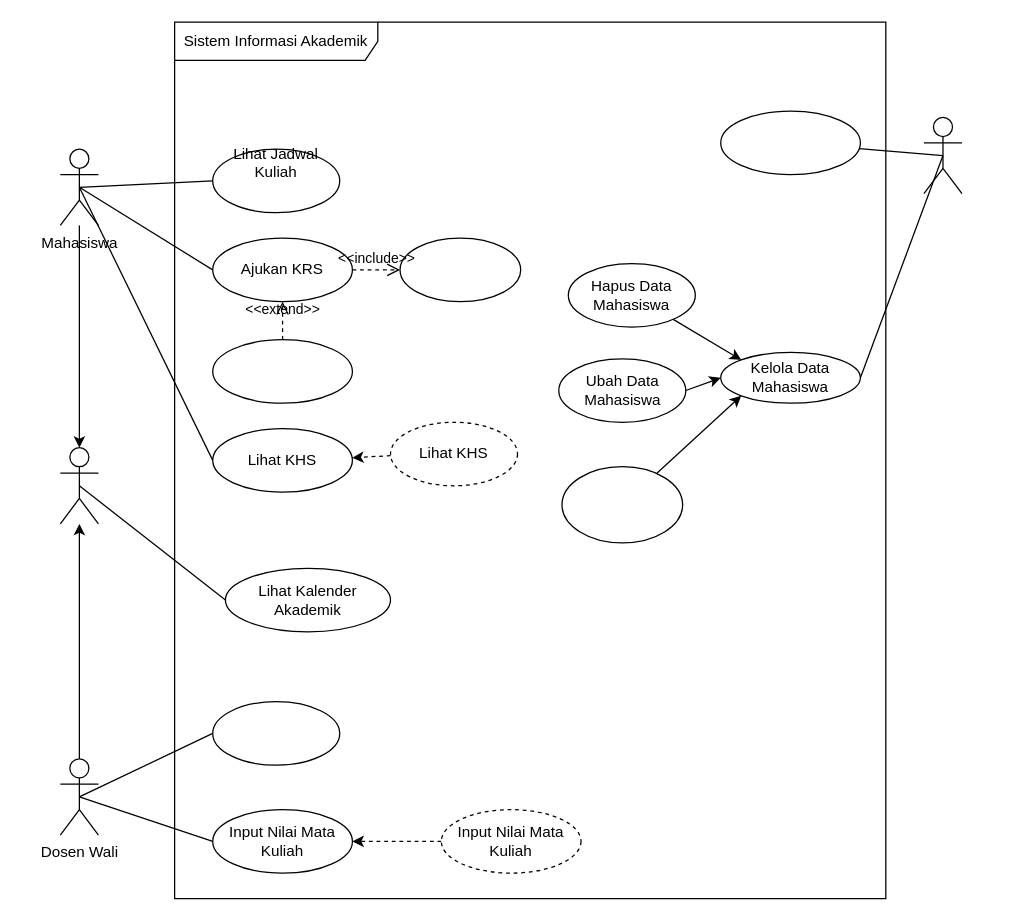
Some shapes in this 1021 by 921 pixel diagram are drawn without their labels. The centre of each missing label's shape, as x and y in pixels:
Admin Akademik: point 942,155
Civitas Akademik: point 78,485
Memproses Pengajuan: point 275,732
Pengelola jadwal kuliah: point 789,142
Tambah Data Mahasiswa: point 622,504
Unduh bukti pengajuan KRS: point 281,370
Validasi KRS: point 460,269
